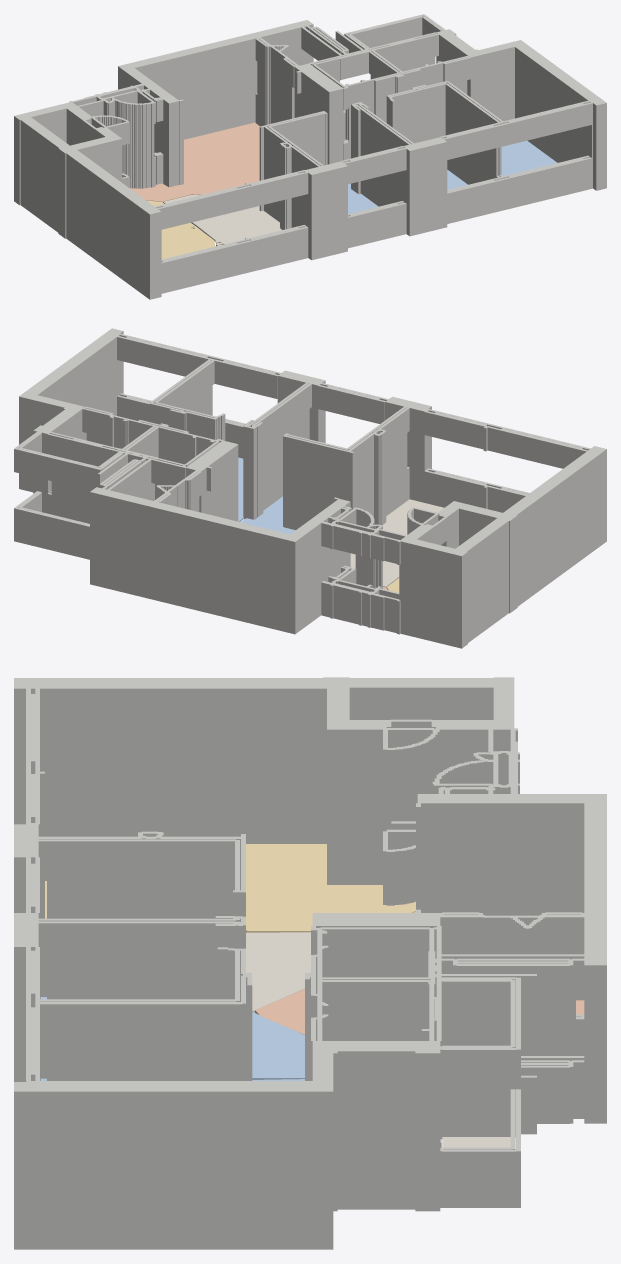
3 views of the same model, one above another, from view 1: azimuth 30°, elevation 25°; view 2: azimuth 150°, elevation 25°; view 3: azimuth 270°, elevation 25° (orthographic). The views are drawn at different scales.
Visible parts, largest first — view 1: walls, room:kitchen:13, room:other:9, room:living:7, room:bedroom:12, room:bedroom:10; view 2: walls, room:other:9, room:bedroom:10; view 3: walls, room:living:7, room:other:9, room:bedroom:10, room:kitchen:13, room:other:14.
Part boxes in pixels (<box>): walls: <box>14,14,606,299</box>; room:kitchen:13: <box>130,122,259,202</box>; room:other:9: <box>163,195,281,246</box>; room:living:7: <box>146,200,215,259</box>; room:bedroom:12: <box>501,140,557,175</box>; room:bedroom:10: <box>348,183,378,213</box>; walls: <box>14,328,606,648</box>; room:other:9: <box>350,499,444,587</box>; room:bedroom:10: <box>241,496,295,534</box>; walls: <box>14,677,606,1249</box>; room:living:7: <box>246,844,415,932</box>; room:other:9: <box>246,932,310,1012</box>; room:bedroom:10: <box>40,997,304,1079</box>; room:kitchen:13: <box>255,912,584,1034</box>; room:other:14: <box>442,1137,510,1147</box>.
Bounding box in the file's own units: 15.72 × 2.8 × 9.51.
